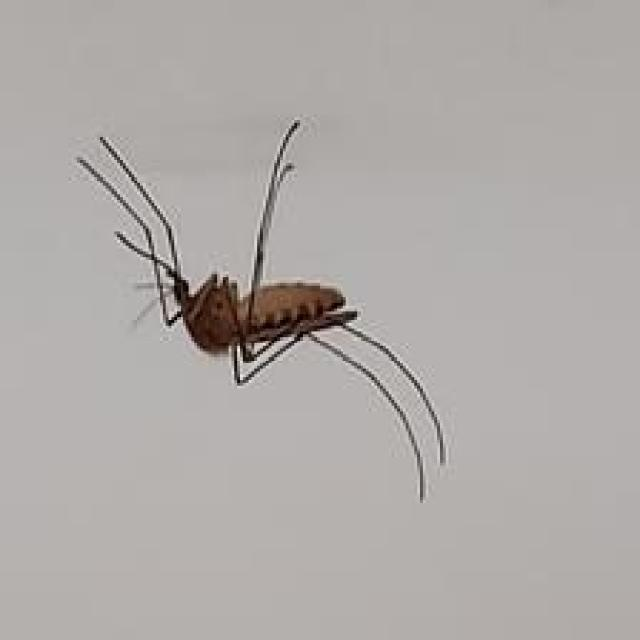Culex: (74, 116, 449, 504)
